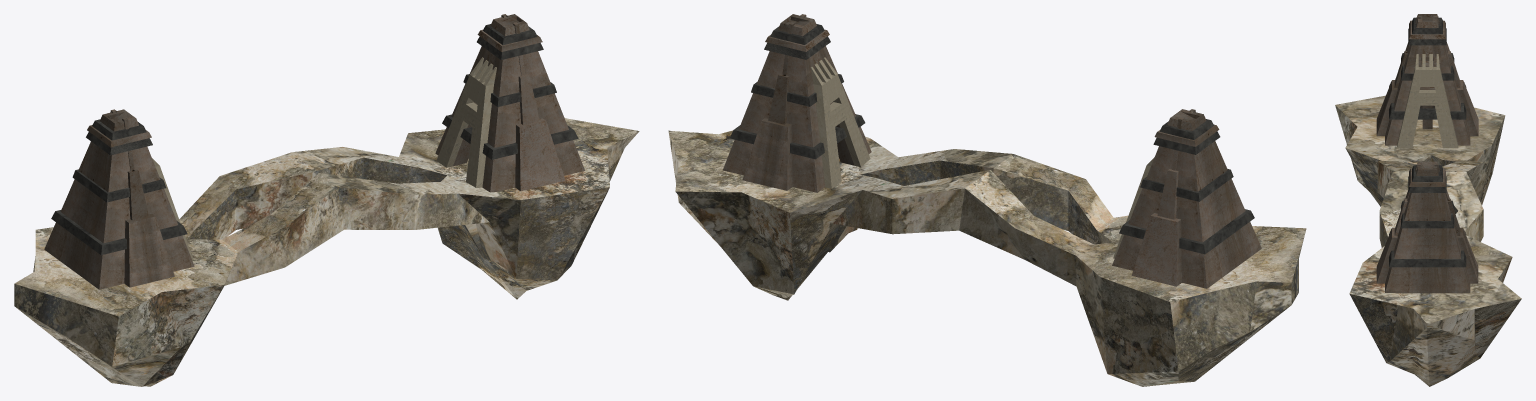
The model's file is facingworlds.fbx.
The picture shows the model from 3 angles, left to right: view 1: azimuth 30°, elevation 25°; view 2: azimuth 150°, elevation 25°; view 3: azimuth 270°, elevation 25°; orthographic projection. The views are drawn at different scales.
Visible parts, largest first — view 1: ground, Cube, Cube.005; view 2: ground, Cube, Cube.005; view 3: ground, Cube.005, Cube.
Part boxes in pixels (x1,y1,x2,y2): ground: [14, 117, 639, 386]; Cube: [44, 109, 194, 289]; Cube.005: [435, 14, 585, 192]; ground: [668, 130, 1306, 386]; Cube: [1112, 109, 1261, 288]; Cube.005: [723, 14, 871, 192]; ground: [1335, 95, 1521, 386]; Cube.005: [1376, 161, 1478, 293]; Cube: [1376, 14, 1478, 148].
Size of the model in its own units: 1837 by 795 by 614.
